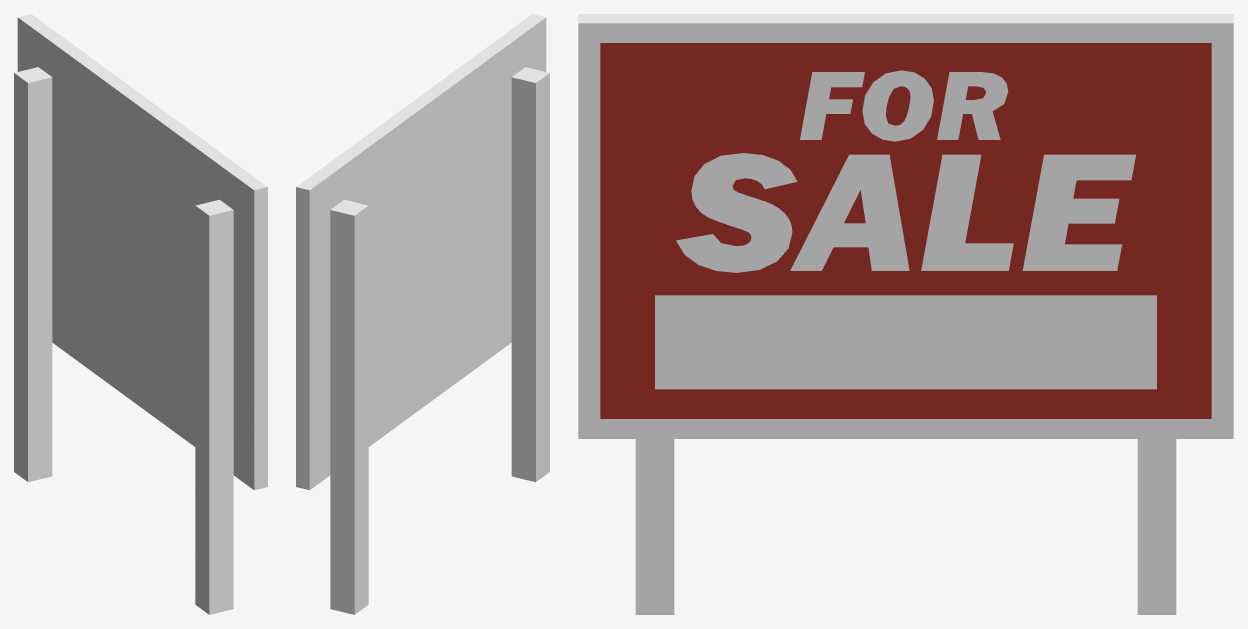
Rendered from SM_billboard_forSale_standing.gltf.
The picture shows the model from 3 angles, left to right: view 1: azimuth 30°, elevation 25°; view 2: azimuth 150°, elevation 25°; view 3: azimuth 270°, elevation 25°; orthographic projection. The views are drawn at different scales.
Parts seen in each view (by area): view 1: SM_billboard_forSale_standing; view 2: SM_billboard_forSale_standing; view 3: SM_billboard_forSale_standing.
Boxes of the visible parts, x1,y1,x2,y2 form: SM_billboard_forSale_standing: (14,14,267,614); SM_billboard_forSale_standing: (296,14,549,614); SM_billboard_forSale_standing: (578,14,1233,614).
Size of the model in its own units: 0.2155 by 2.28 by 2.25.
Materials: 1 (1 with a texture image).
